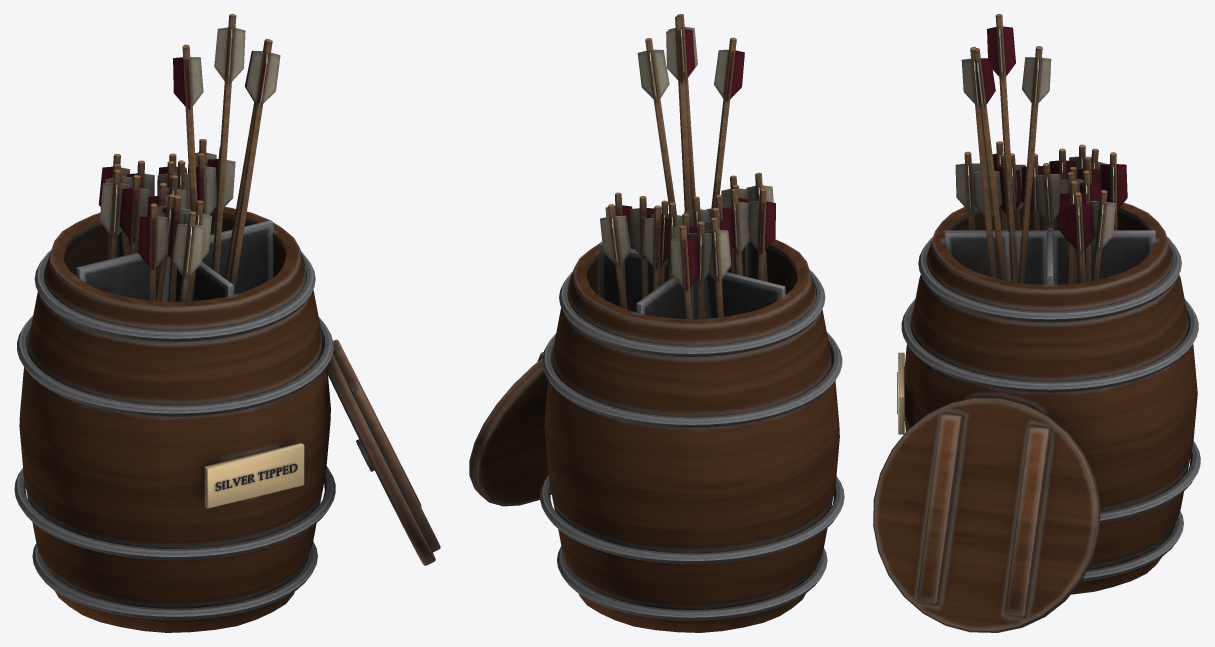
File: BoltBarrel.fbx
3 renders of one model, left to right at view 1: azimuth 30°, elevation 25°; view 2: azimuth 150°, elevation 25°; view 3: azimuth 270°, elevation 25°, orthographic. The views are drawn at different scales.
Parts seen in each view (by area): view 1: BoltBarrel; view 2: BoltBarrel; view 3: BoltBarrel.
Part boxes in pixels (x1,y1,x2,y2): BoltBarrel: (14, 14, 440, 632); BoltBarrel: (469, 14, 844, 632); BoltBarrel: (873, 14, 1200, 632).
Size of the model in its own units: 188 by 274 by 155.
